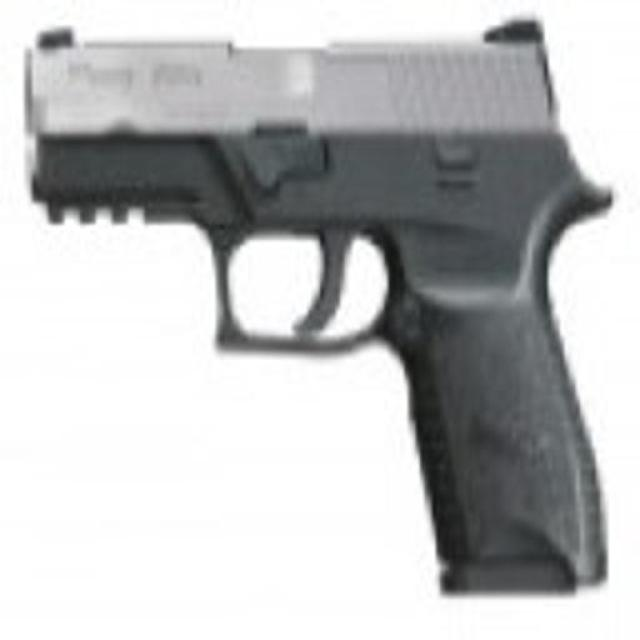pistol: (27, 5, 607, 596)
